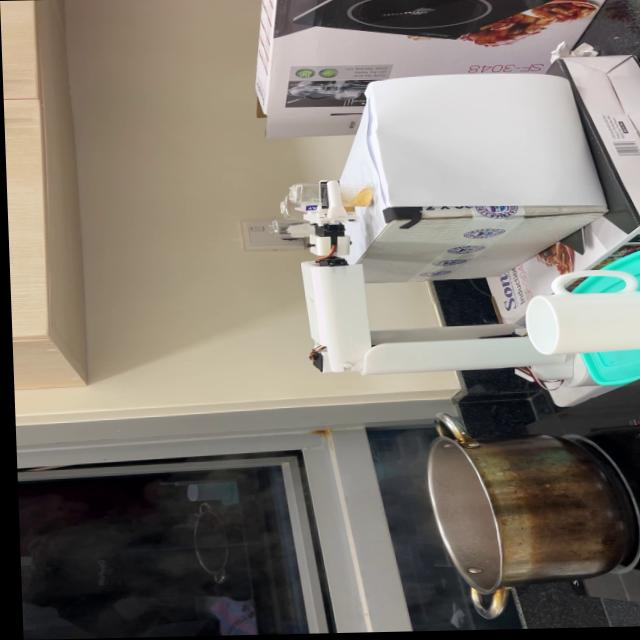cooking_pot: (433, 405, 627, 619)
garlic_powder: (343, 188, 376, 206)
